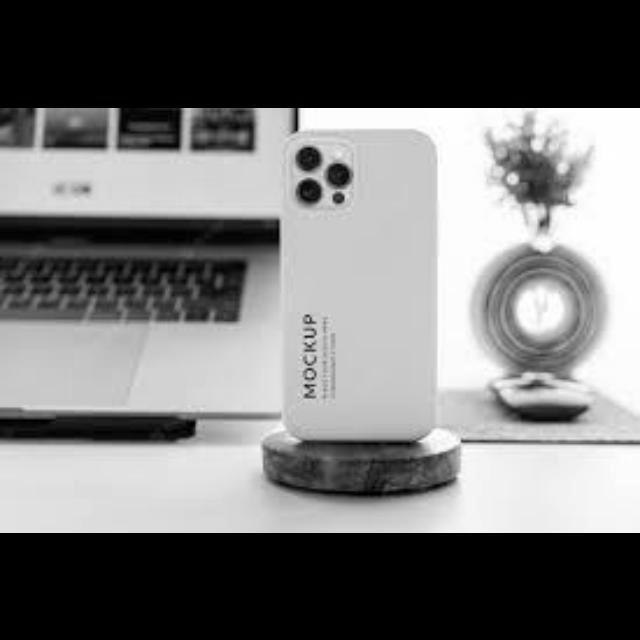fake: (264, 118, 460, 482)
